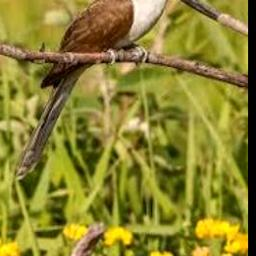Cuckoo: (14, 0, 209, 178)
